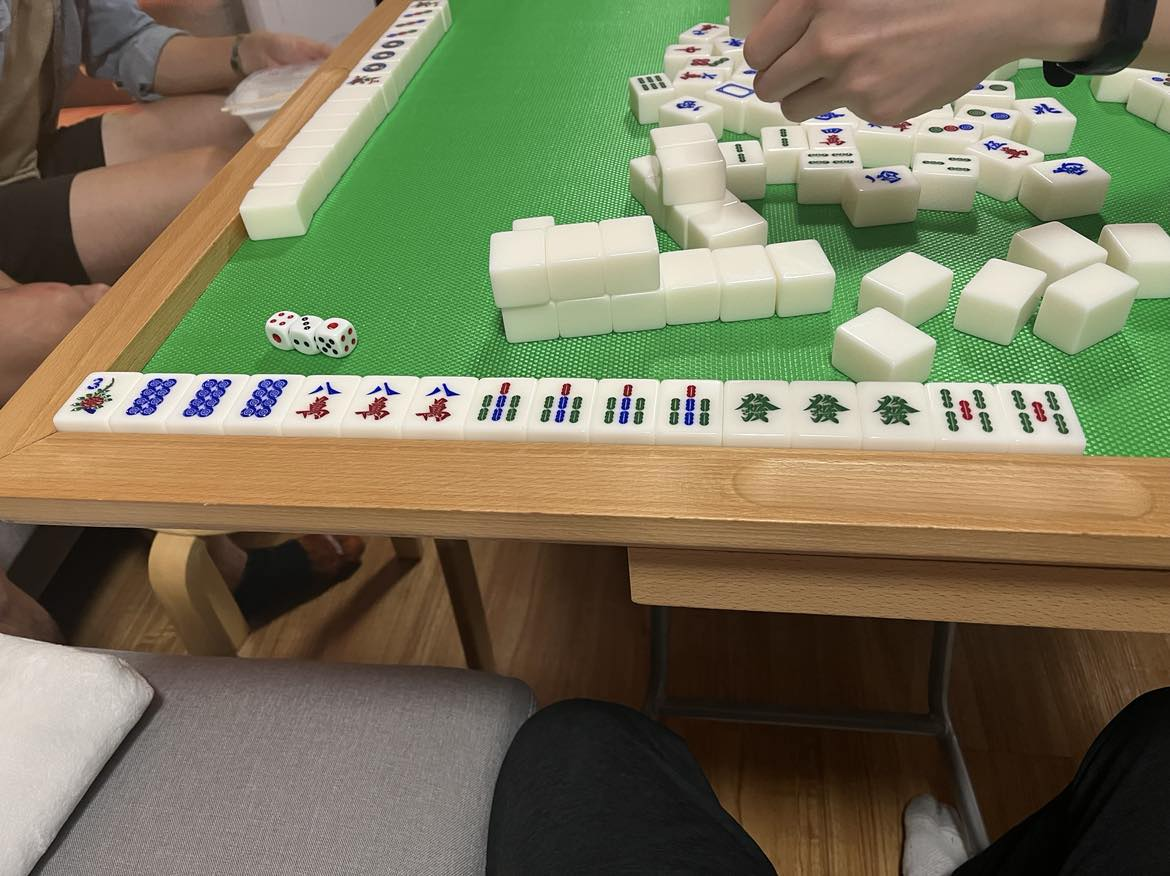bamboo-five: (1008, 385, 1073, 444), (933, 385, 998, 442)
bamboo-seven: (661, 381, 718, 436), (596, 379, 652, 434), (534, 380, 587, 435), (473, 378, 522, 433)
character-eight: (352, 376, 402, 429), (413, 378, 463, 429), (296, 374, 341, 429)
circle-eight: (125, 372, 178, 427), (180, 372, 232, 426), (240, 374, 288, 426)
flower-blue_three: (73, 370, 116, 425)
honor-green_dragon: (865, 382, 924, 438), (796, 382, 852, 438), (725, 380, 783, 434)
